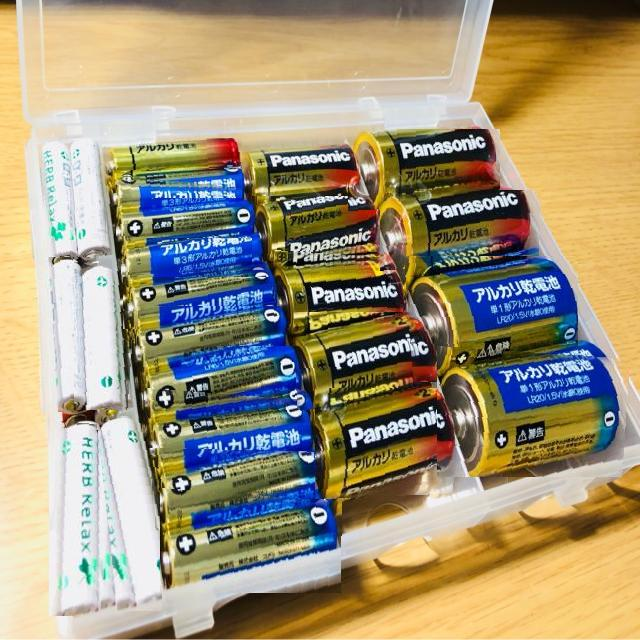battery: (437, 346, 630, 477), (404, 256, 578, 382), (160, 488, 342, 593), (315, 388, 464, 501), (144, 388, 316, 474), (149, 448, 324, 530), (293, 312, 432, 410), (49, 420, 118, 616), (380, 190, 542, 271), (96, 416, 162, 611), (348, 129, 500, 211), (139, 346, 303, 421), (273, 250, 410, 324), (74, 262, 138, 410), (40, 257, 100, 414), (252, 196, 384, 263), (123, 278, 280, 330), (242, 138, 362, 204), (136, 306, 293, 352), (121, 238, 271, 275), (116, 198, 255, 236), (42, 138, 82, 262), (104, 138, 246, 170), (70, 142, 108, 260), (106, 174, 252, 204)
